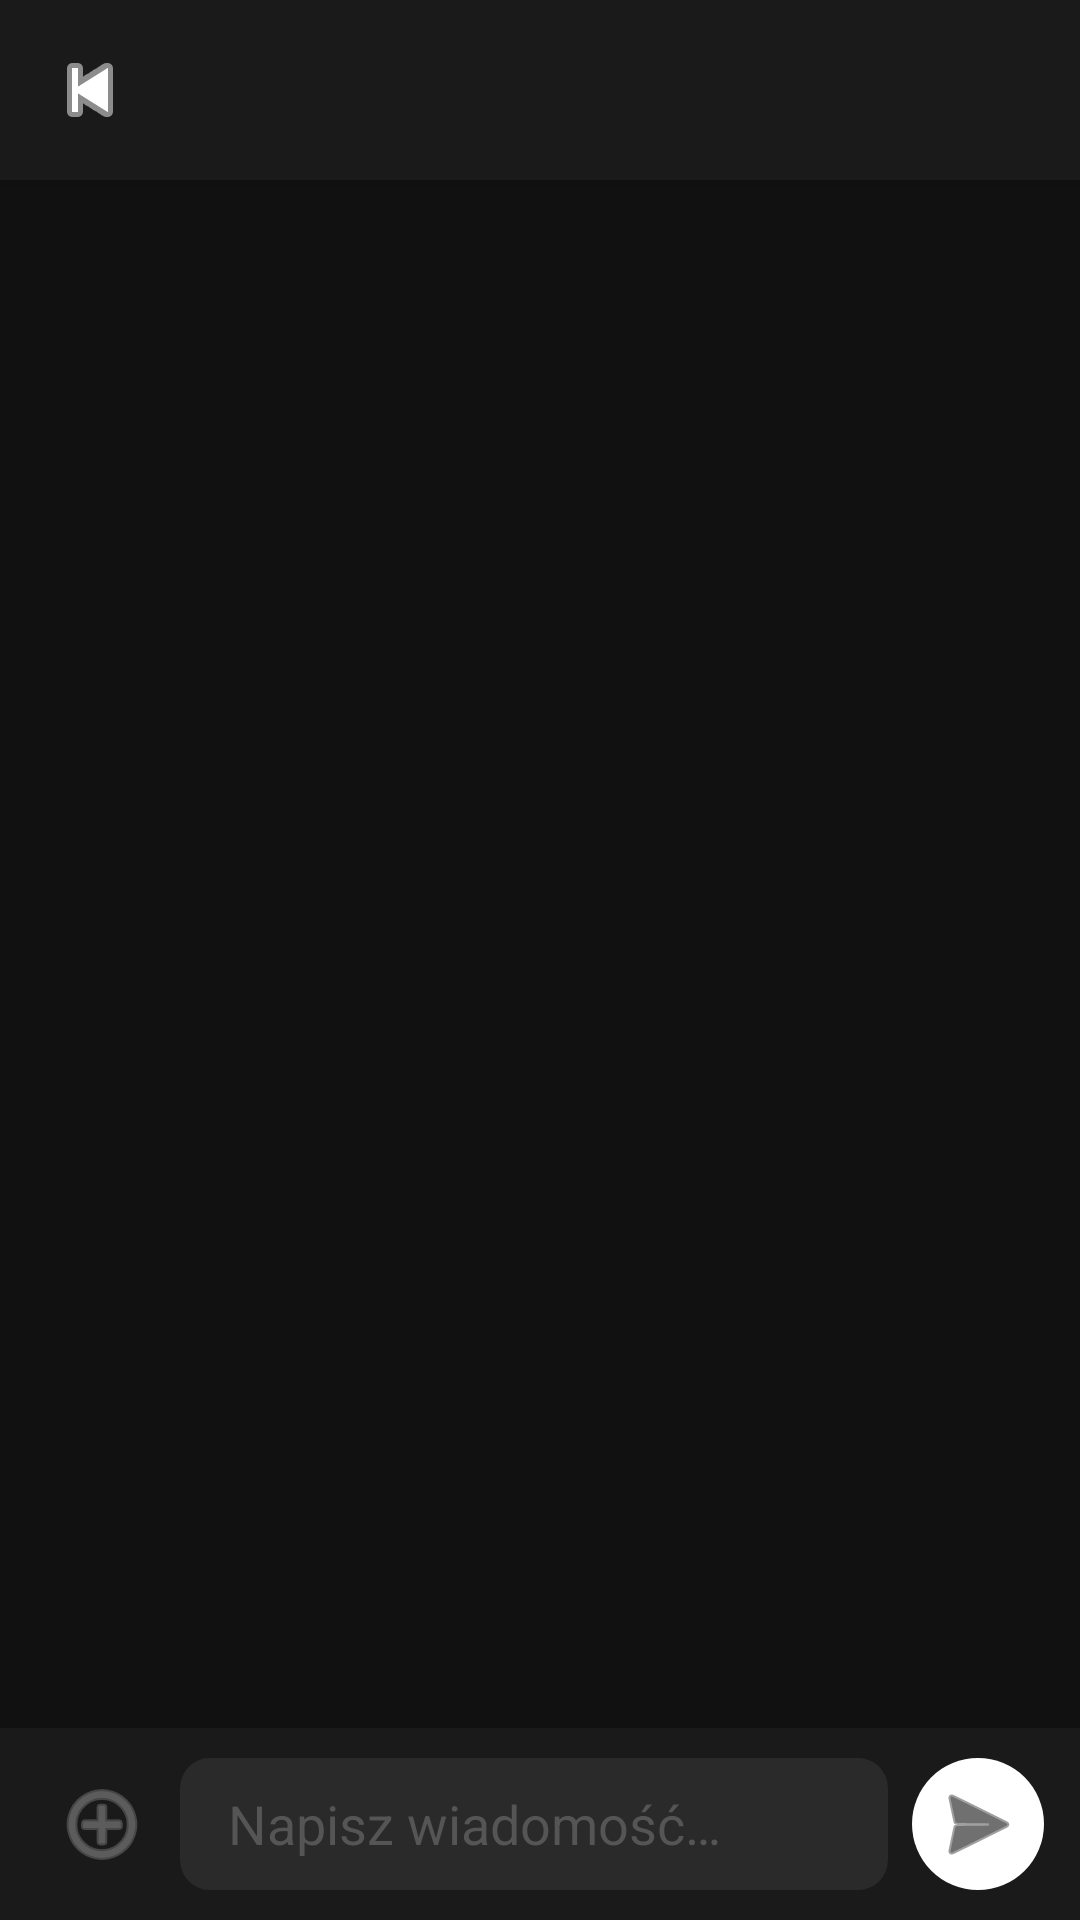

Icons on this 1080*1920 Android screen, each with its box as (x1, y1, x2, y2):
Wstecz: (67, 63, 113, 117)
Wyślij: (912, 1758, 1044, 1890)
Załącz plik: (67, 1789, 137, 1860)
